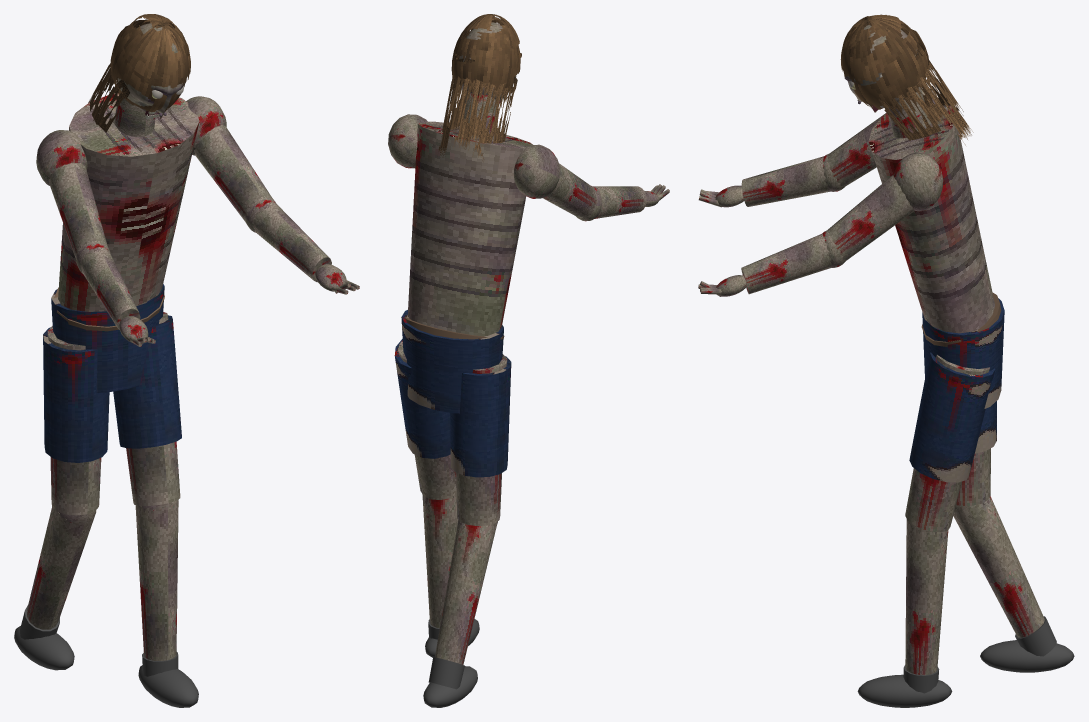
Rendered from Zombie_124.glb.
The picture shows the model from 3 angles, left to right: view 1: azimuth 30°, elevation 25°; view 2: azimuth 150°, elevation 25°; view 3: azimuth 270°, elevation 25°; orthographic projection. The views are drawn at different scales.
Visible parts, largest first — view 1: Zombie_124, object 43, object 10, object 3, object 44, object 16, object 54, object 11, object 4; view 2: Zombie_124, object 44, object 3, object 43, object 50, object 51, object 52, object 49, object 48, object 53; view 3: Zombie_124, object 44, object 10, object 3, object 43, object 48, object 45, object 46, object 47.
Part boxes in pixels (x1,y1,x2,y2): Zombie_124: (14,93,271,707); object 43: (120,14,190,87); object 10: (252,201,331,282); object 3: (80,247,140,329); object 44: (110,14,187,112); object 16: (117,23,185,114); object 54: (93,80,129,132); object 11: (315,264,346,291); object 4: (119,316,148,343); Zombie_124: (388,93,598,707); object 44: (451,16,520,99); object 3: (593,186,646,218); object 43: (455,14,521,64); object 50: (453,61,477,150); object 51: (467,79,489,146); object 52: (472,82,506,161); object 49: (445,58,474,134); object 48: (437,58,463,158); object 53: (493,83,508,143); Zombie_124: (827,87,1074,707); object 44: (849,15,929,109); object 10: (741,234,832,294); object 3: (741,156,830,206); object 43: (840,14,920,81); object 48: (915,53,973,145); object 45: (878,98,929,140); object 46: (898,90,941,137); object 47: (907,80,950,130).
Size of the model in its own units: 0.6806 by 2.04 by 1.03.
16 materials, 6 textured.
